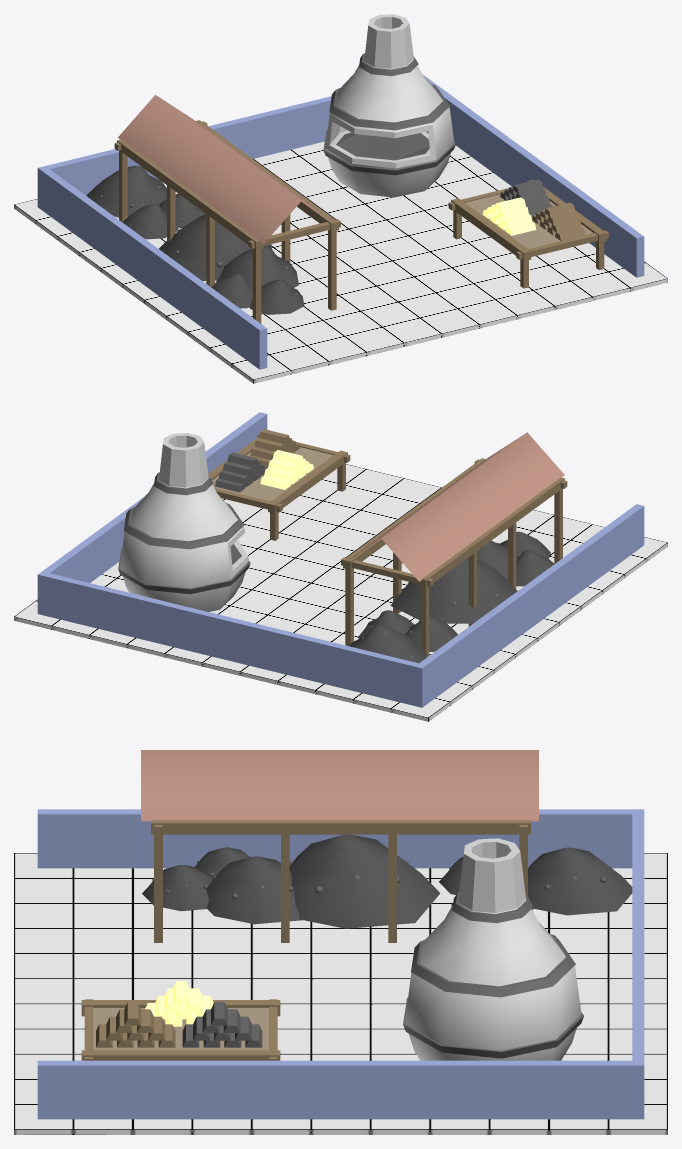
Rendered from XG_Smelter.glb.
3 views of the same model, one above another, from view 1: azimuth 30°, elevation 25°; view 2: azimuth 150°, elevation 25°; view 3: azimuth 270°, elevation 25° (orthographic). The views are drawn at different scales.
Visible parts, largest first — view 1: ground_11_x_11_024, Cylinder005, Box702, Plane032, Box701, Box700, oar-pile012, oar-pile013, furn-inside001, Box703, Box715, oar-pile011 (+14 smaller); view 2: ground_11_x_11_024, Box700, Cylinder005, Box702, Plane032, Box701, oar-pile012, Box703, oar-pile013, Box715, furn-ring007, Plane033 (+15 smaller); view 3: ground_11_x_11_024, Box701, Plane032, Cylinder005, Box702, oar-pile012, Box704, oar-pile013, oar-pile011, Box700, Box715, furn-ring007 (+8 smaller).
Boxes of the visible parts, box(x1,y1,x2,y2) form: ground_11_x_11_024: box(14, 141, 667, 383); Cylinder005: box(325, 14, 454, 197); Box702: box(37, 166, 267, 369); Plane032: box(118, 95, 335, 243); Box701: box(422, 74, 644, 277); Box700: box(46, 96, 331, 196); oar-pile012: box(159, 214, 271, 281); oar-pile013: box(87, 165, 166, 217); furn-inside001: box(336, 132, 429, 160); Box703: box(117, 139, 263, 250); Box715: box(451, 180, 606, 261); oar-pile011: box(216, 246, 298, 287); ground_11_x_11_024: box(14, 464, 667, 721); Box700: box(45, 573, 418, 705); Cylinder005: box(120, 433, 248, 611); Box702: box(414, 504, 644, 707); Plane032: box(346, 432, 564, 581); Box701: box(37, 412, 267, 615); oar-pile012: box(390, 557, 517, 623); Box703: box(418, 477, 564, 588); oar-pile013: box(350, 624, 427, 663); Box715: box(208, 437, 347, 513); furn-ring007: box(123, 503, 244, 549); Plane033: box(212, 447, 333, 501); ground_11_x_11_024: box(14, 853, 667, 1134); Box701: box(37, 1060, 644, 1119); Plane032: box(141, 750, 538, 821); Cylinder005: box(405, 838, 581, 1060); Box702: box(37, 809, 644, 868); oar-pile012: box(289, 834, 440, 928); Box704: box(151, 820, 530, 834); oar-pile013: box(528, 847, 632, 915); oar-pile011: box(206, 856, 302, 924); Box700: box(632, 814, 644, 1060); Box715: box(81, 1000, 280, 1060); furn-ring007: box(411, 934, 575, 997).
Size of the model in its own units: 11 by 3.99 by 11.
8 materials, 1 textured.
